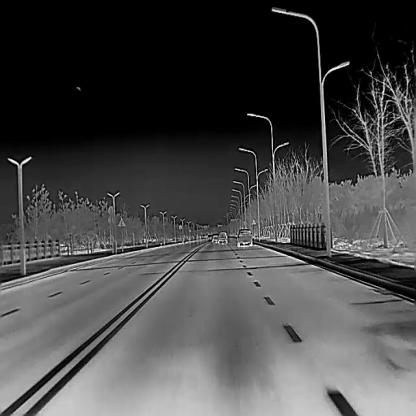car: (236, 228, 252, 247), (217, 231, 227, 243), (212, 232, 218, 243), (207, 233, 212, 241)
